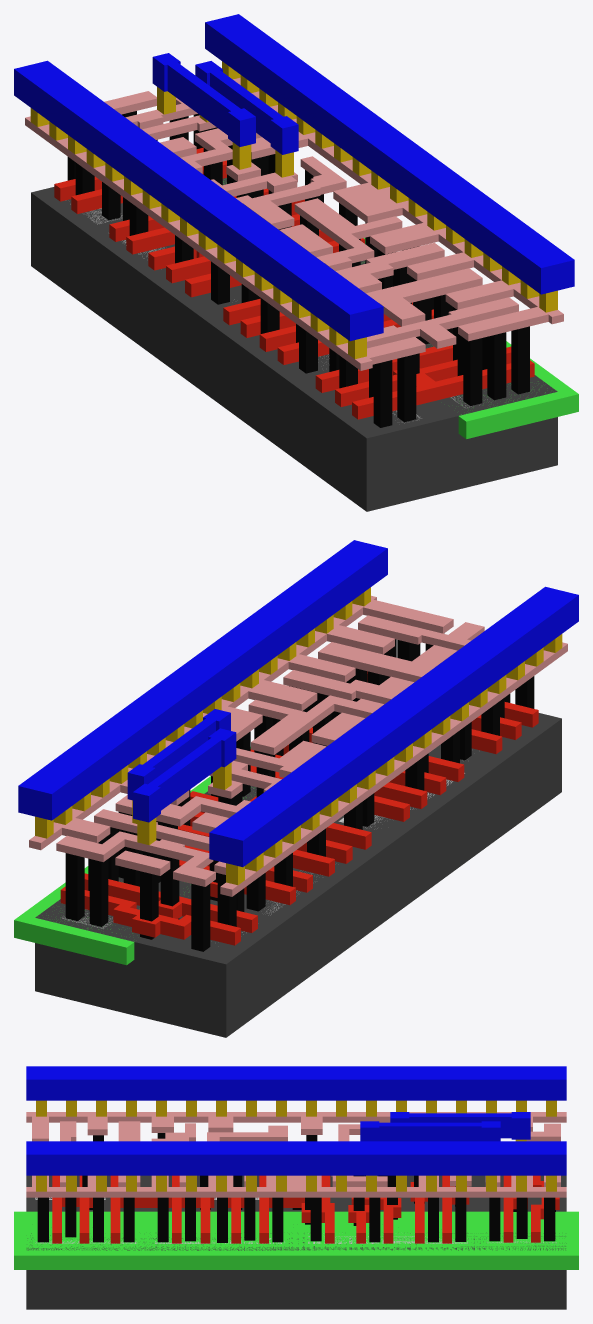
The model's file is sky130_fd_sc_hd__dlrbp_2.obj.
3 renders of one model, top to bottom at view 1: azimuth 30°, elevation 25°; view 2: azimuth 150°, elevation 25°; view 3: azimuth 270°, elevation 25°, orthographic. The views are drawn at different scales.
Visible parts, largest first — view 1: metal1, subs, li, licon, poly, mcon, nwell; view 2: metal1, subs, li, licon, poly, mcon, nwell; view 3: metal1, subs, nwell, li, licon, poly, mcon, tap.
Part boxes in pixels (x1,y1,x2,y2): metal1: (14,14,574,341); subs: (31,177,557,511); li: (25,77,563,370); licon: (67,111,529,427); poly: (54,147,534,419); mcon: (30,61,557,359); nwell: (223,179,578,439); metal1: (18,540,578,867); subs: (35,713,561,1037); li: (29,595,567,896); licon: (65,633,534,951); poly: (60,671,538,945); mcon: (35,587,562,885); nwell: (14,747,254,965); metal1: (26,1066,566,1175); subs: (26,1175,566,1309); nwell: (14,1211,578,1269); li: (26,1112,566,1197); licon: (37,1133,555,1242); poly: (52,1175,559,1243); mcon: (36,1100,556,1191); tap: (35,1233,556,1243).
Bounding box in the file's own units: 3.2 × 2.74 × 8.66.
